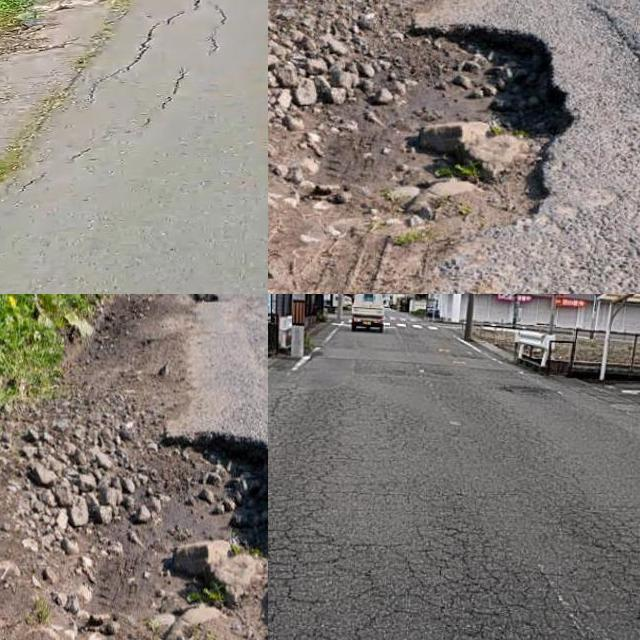Pinggir: (378, 23, 584, 290), (0, 0, 216, 190), (99, 416, 268, 640)
Retak Buaya: (268, 390, 352, 640), (429, 522, 570, 640)
